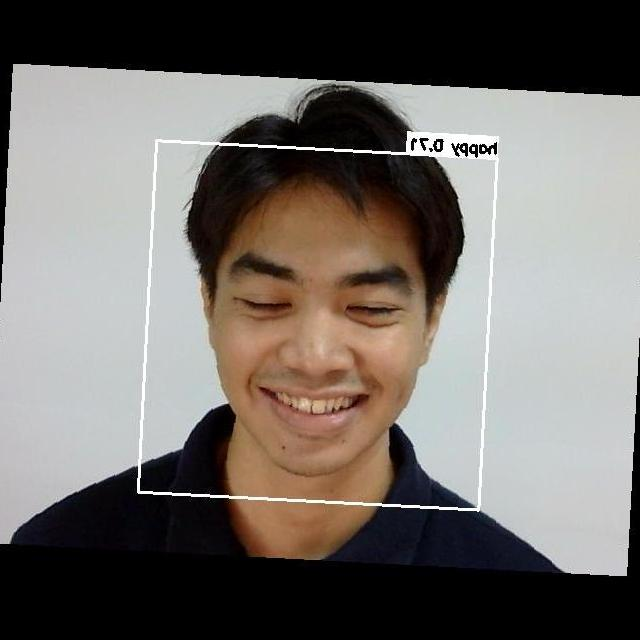Happy: (207, 222, 430, 450)
